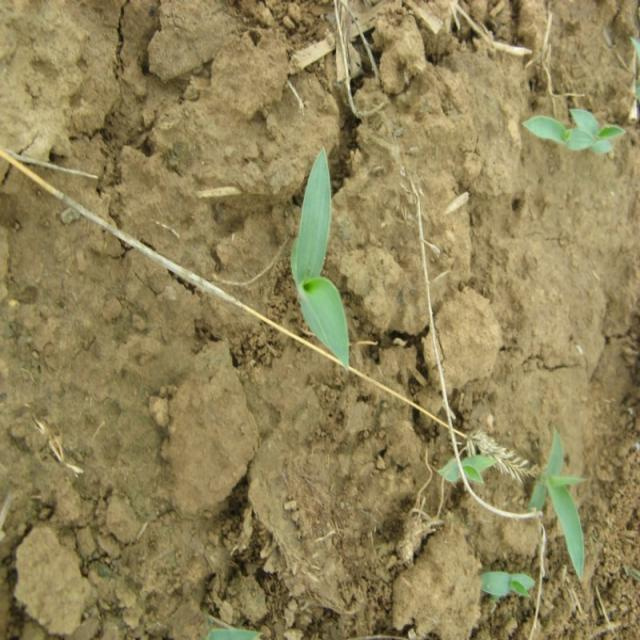bg: (288, 148, 365, 368)
